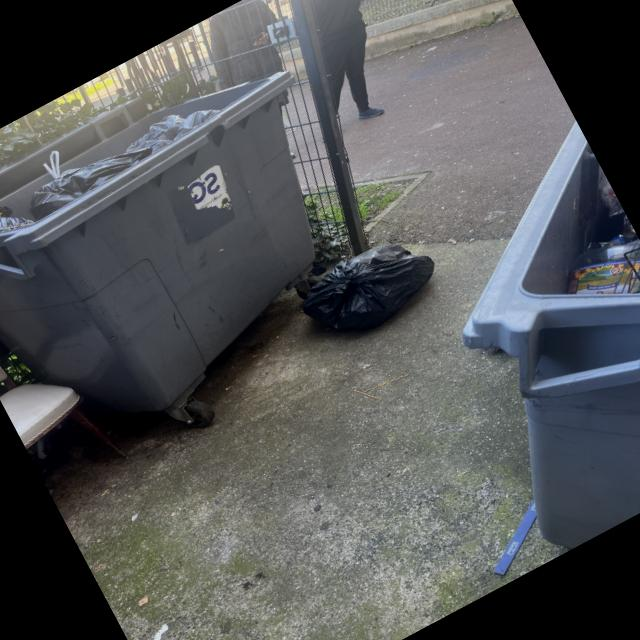Garbage bag: (295, 242, 429, 338)
